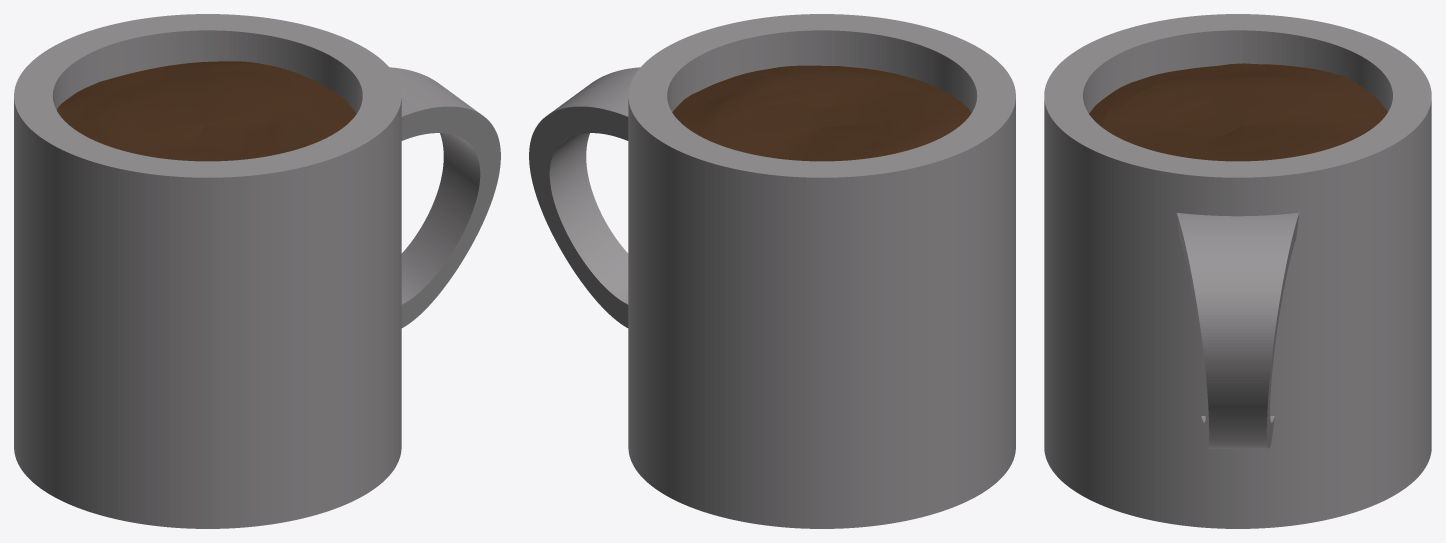
The model's file is cup.dae.
The picture shows the model from 3 angles, left to right: view 1: azimuth 30°, elevation 25°; view 2: azimuth 150°, elevation 25°; view 3: azimuth 270°, elevation 25°; orthographic projection.
Visible parts, largest first — view 1: Cylinder.001, Circle, Cylinder.003; view 2: Cylinder.001, Circle, Cylinder.003; view 3: Cylinder.001, Circle, Cylinder.003.
Part boxes in pixels (x1=…): Cylinder.001: x1=14, y1=14, x2=401, y2=528; Circle: x1=57, y1=61, x2=356, y2=161; Cylinder.003: x1=390, y1=67, x2=500, y2=327; Cylinder.001: x1=628, y1=14, x2=1015, y2=528; Circle: x1=672, y1=65, x2=971, y2=161; Cylinder.003: x1=529, y1=67, x2=639, y2=327; Cylinder.001: x1=1044, y1=14, x2=1431, y2=528; Circle: x1=1089, y1=63, x2=1387, y2=161; Cylinder.003: x1=1176, y1=213, x2=1299, y2=448.
Bounding box in the file's own units: 2.64 × 2 × 2.
